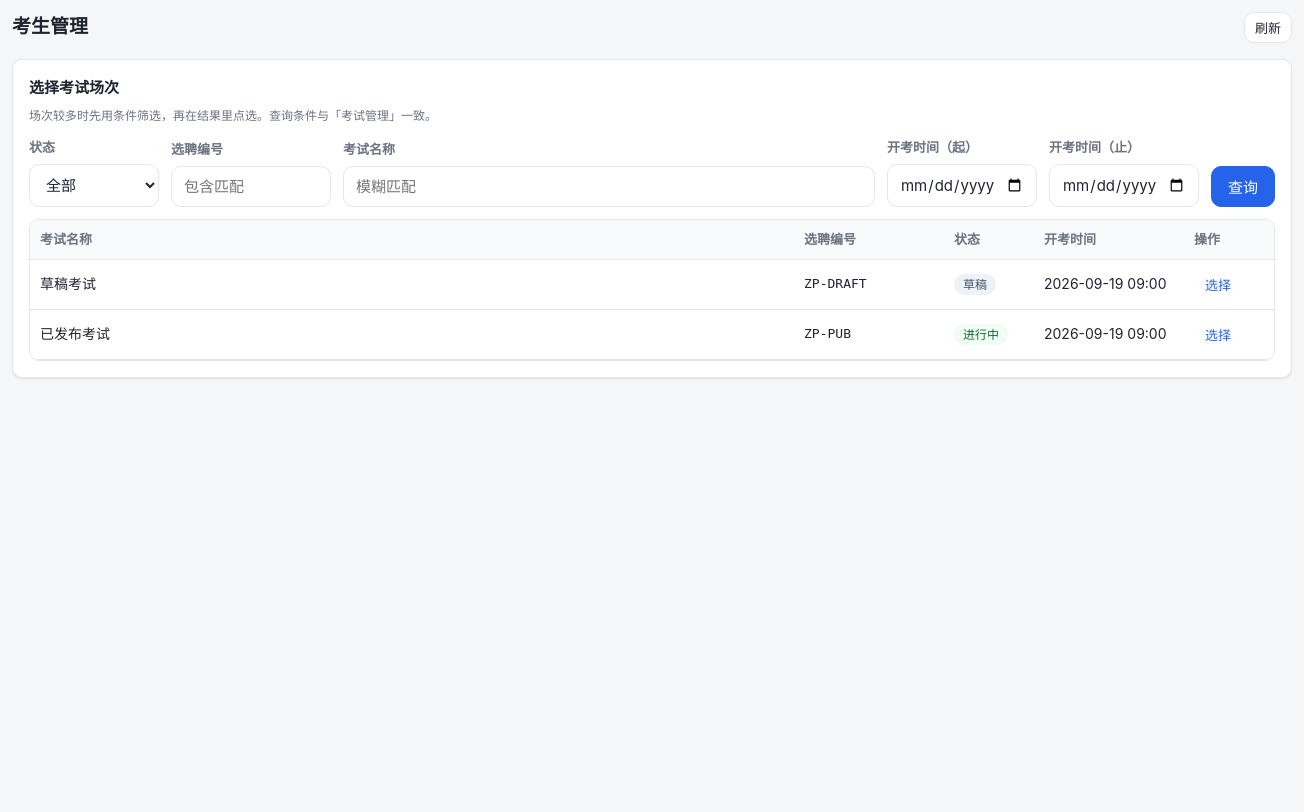
Test case: 场次查询与选择（CH-009） › 「更换场次」重新打开选择器
Click the row with class "exam-row" that starts with "草稿考试".
click(652, 284)  # box left=30, top=259, right=1274, bottom=309
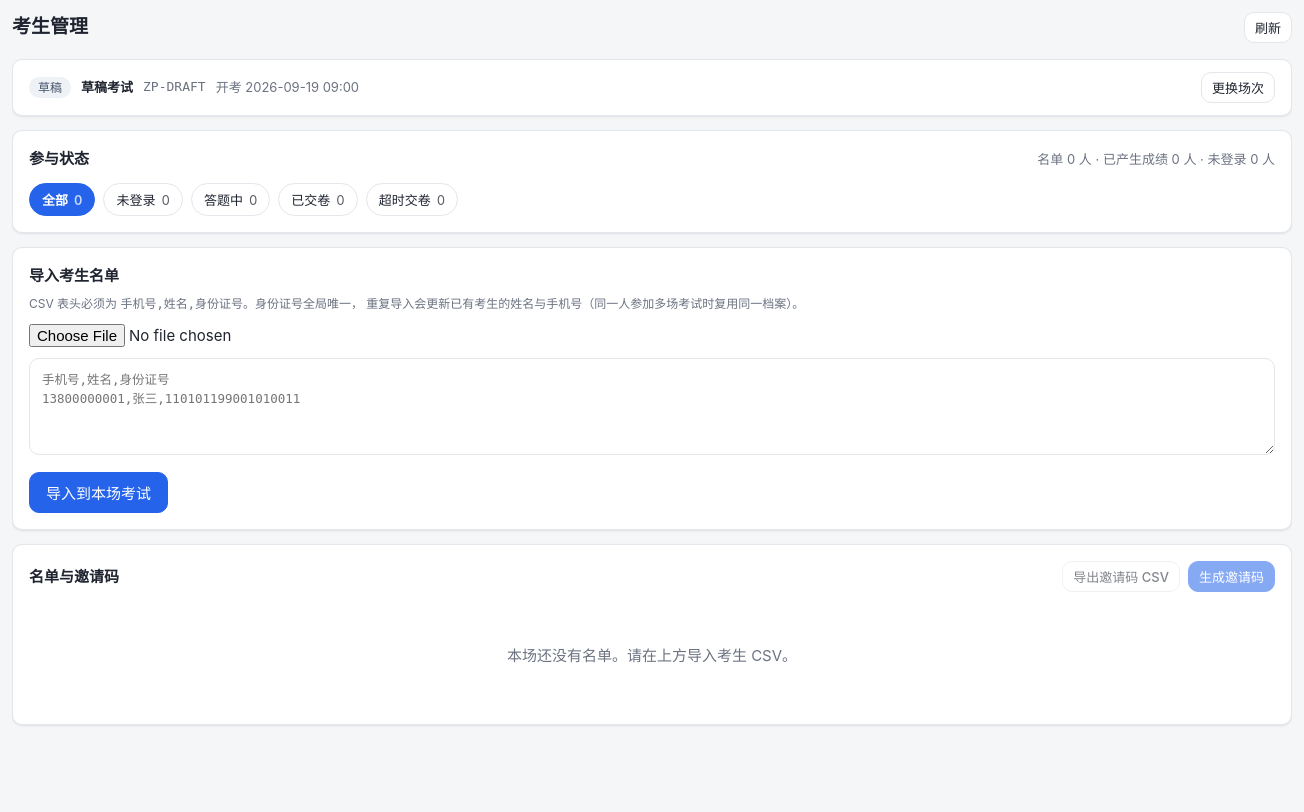
Click the button "更换场次".
click(1238, 88)  # box left=1201, top=72, right=1275, bottom=103
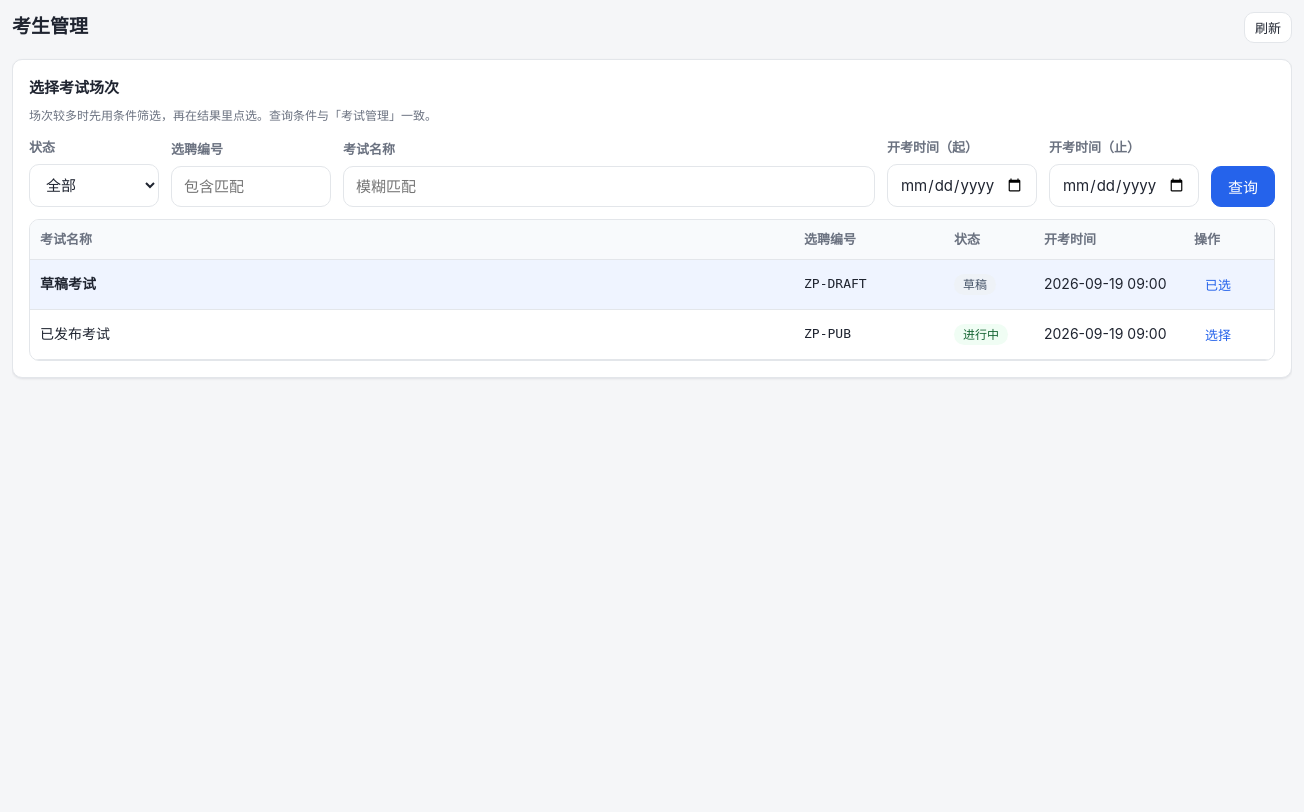
Expected: the field labelled "考试名称" is shown, left=343, top=166, right=875, bottom=207
